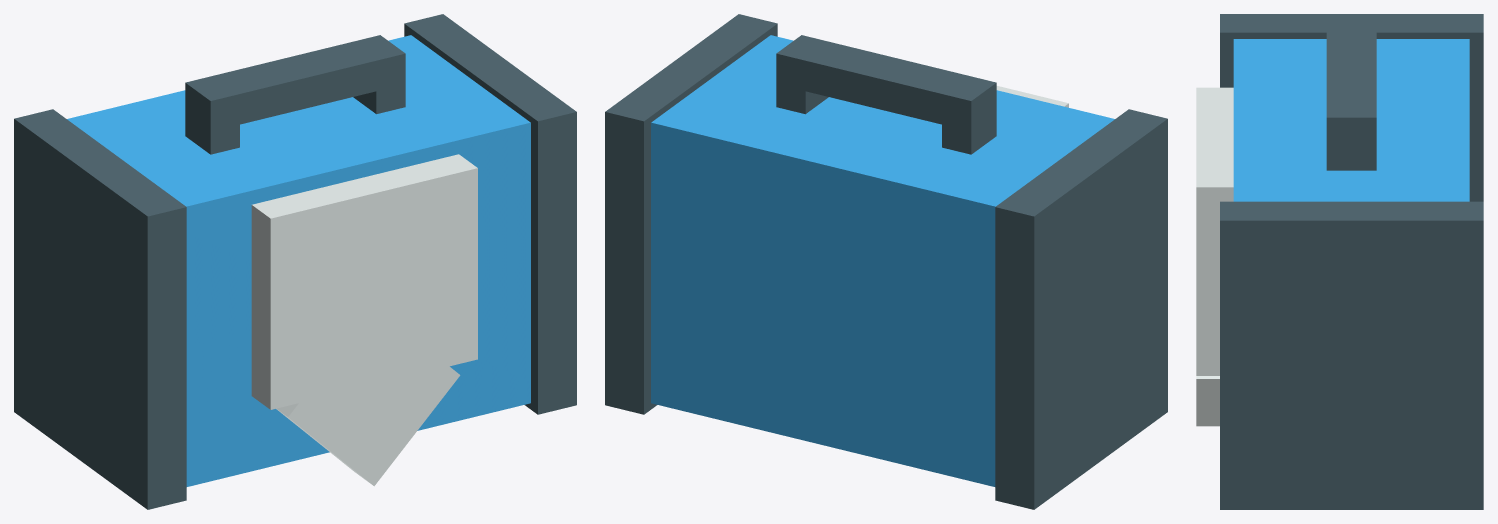
File: pickup-shield.glb
The picture shows the model from 3 angles, left to right: view 1: azimuth 30°, elevation 25°; view 2: azimuth 150°, elevation 25°; view 3: azimuth 270°, elevation 25°; orthographic projection.
Parts seen in each view (by area): view 1: Case, Corner protection, Shield face, Corner protection.001, Shield point, Handle, Handle foot, Handle foot.001; view 2: Case, Corner protection, Corner protection.001, Handle, Handle foot, Handle foot.001; view 3: Corner protection.001, Case, Corner protection, Shield face, Handle, Handle foot.001, Shield point.
Boxes of the visible parts, <box> form: Case: <box>67,35,530,486</box>; Corner protection: <box>14,109,186,509</box>; Shield face: <box>251,154,477,409</box>; Corner protection.001: <box>404,14,576,414</box>; Shield point: <box>276,307,460,486</box>; Handle: <box>185,35,405,131</box>; Handle foot: <box>185,92,239,154</box>; Handle foot.001: <box>353,62,405,114</box>; Case: <box>651,35,1114,486</box>; Corner protection: <box>995,109,1167,509</box>; Corner protection.001: <box>605,14,777,414</box>; Handle: <box>776,35,996,131</box>; Handle foot: <box>942,93,996,154</box>; Handle foot.001: <box>776,62,828,114</box>; Corner protection.001: <box>1220,201,1483,509</box>; Case: <box>1233,39,1469,201</box>; Corner protection: <box>1220,14,1483,201</box>; Shield face: <box>1196,87,1233,375</box>; Handle: <box>1326,23,1376,147</box>; Handle foot.001: <box>1326,126,1376,170</box>; Shield point: <box>1196,376,1219,426</box>.
Size of the model in its own units: 1.76 by 1.41 by 1.04.
